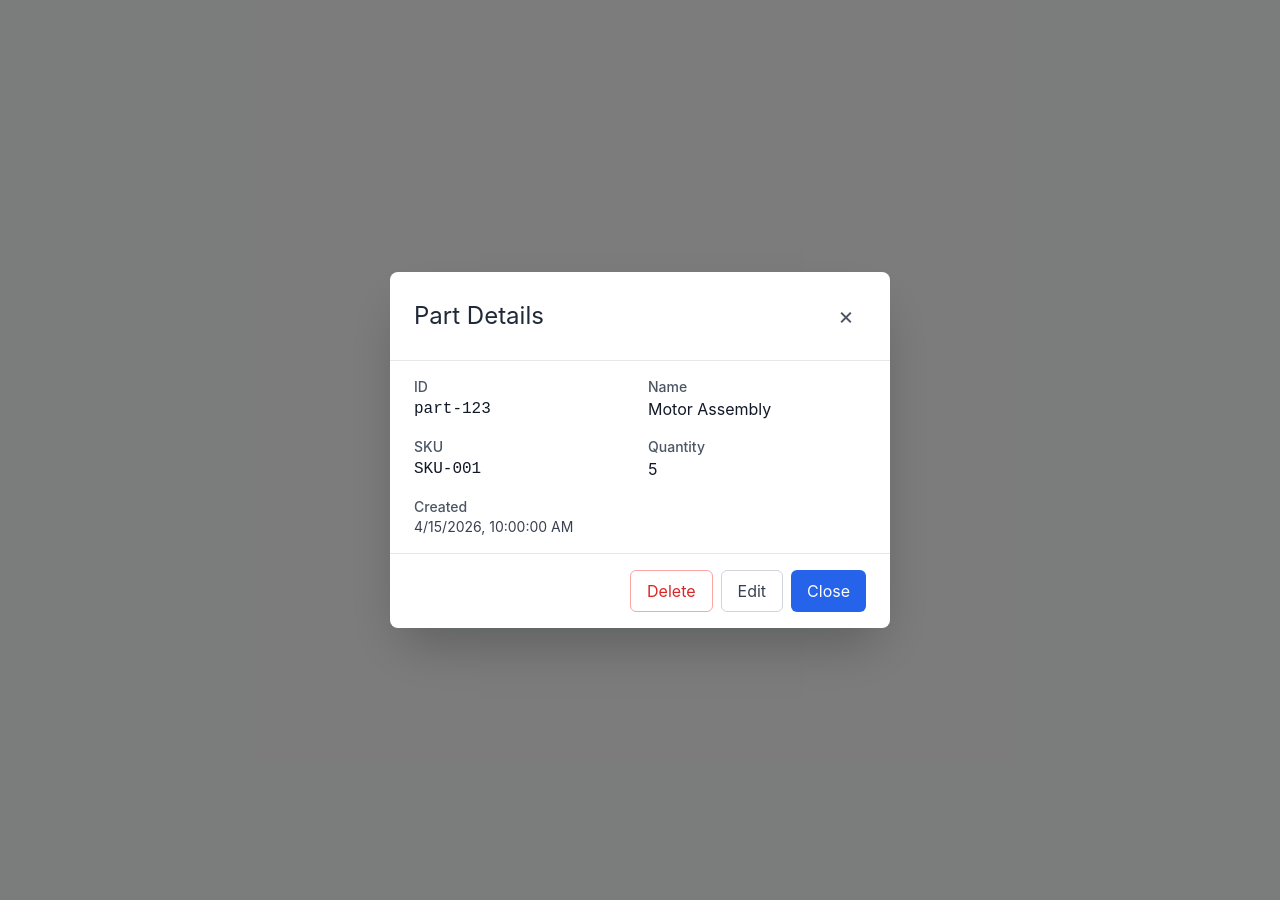
Test: PartDetailsModal Accessibility › Edit Mode Accessibility › should show InlineEditor when Edit is clicked
Click the button "Edit" at x=752, y=591, box [720,570,783,612]
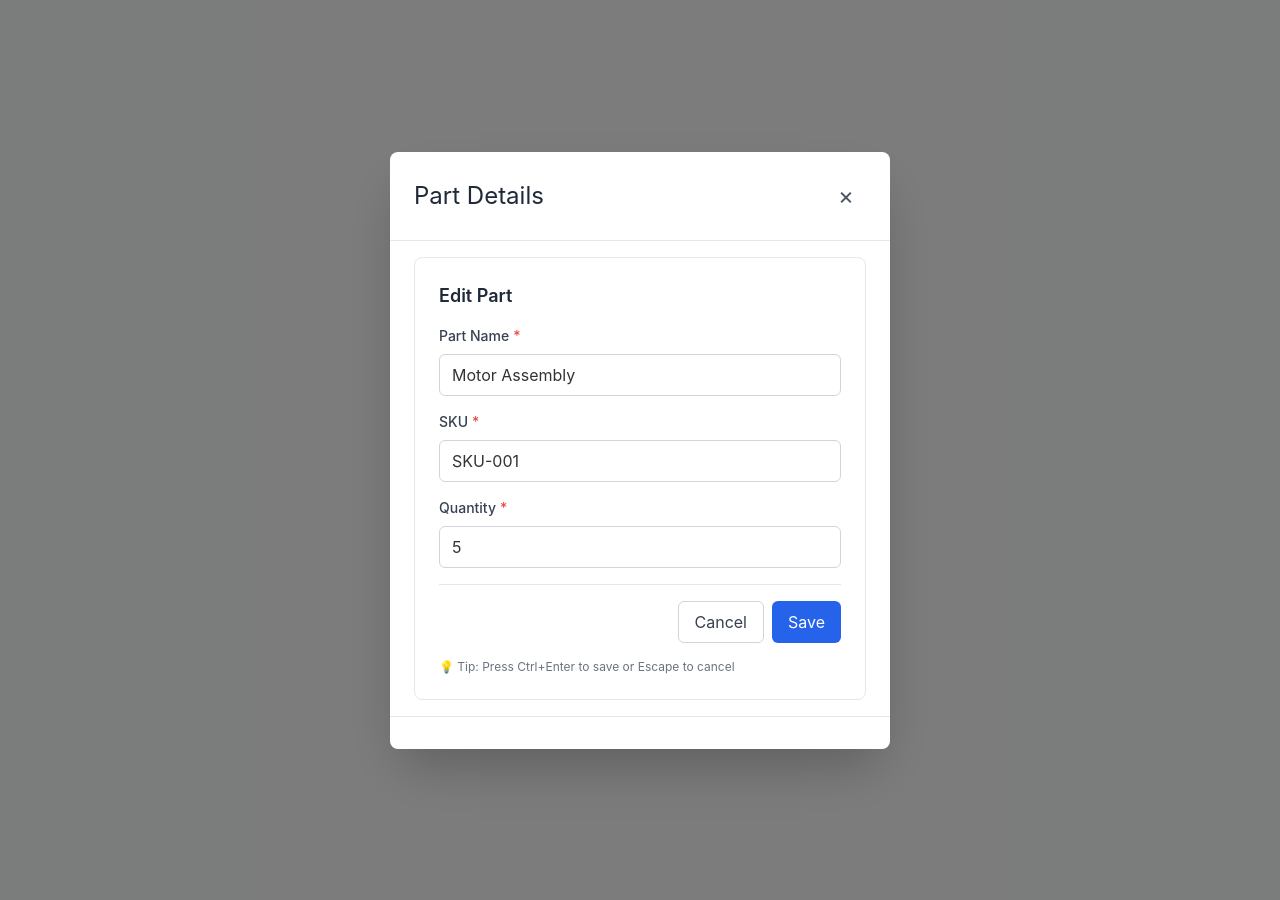
Check: the heading "Edit Part" is shown, box [439,284,512,306]
